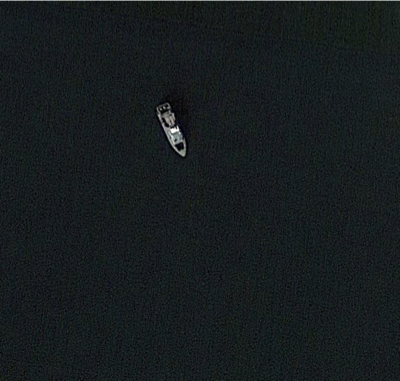boat: (156, 103, 188, 159)
